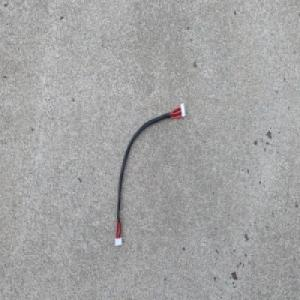Wire: (112, 101, 187, 248)
